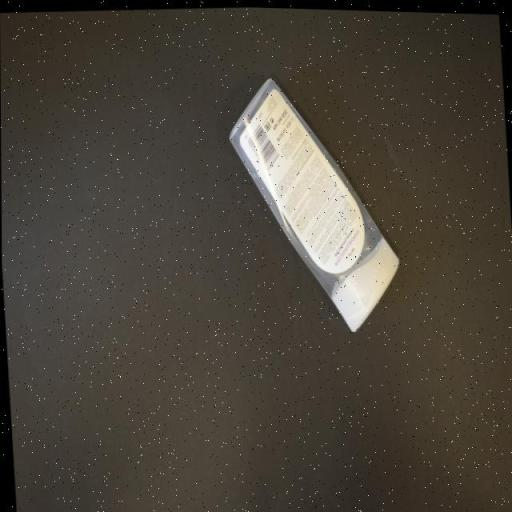plastic: (221, 62, 405, 340)
